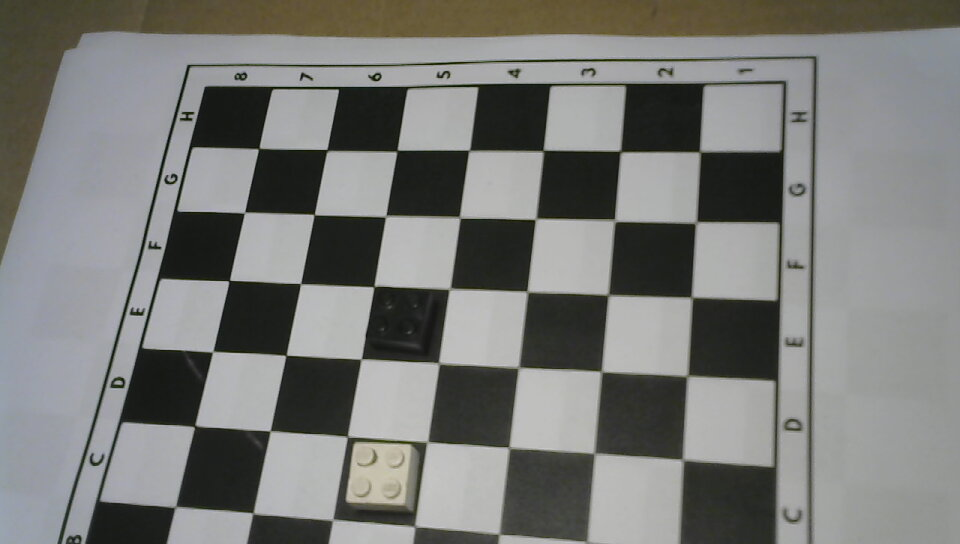bp: (364, 281, 441, 360)
